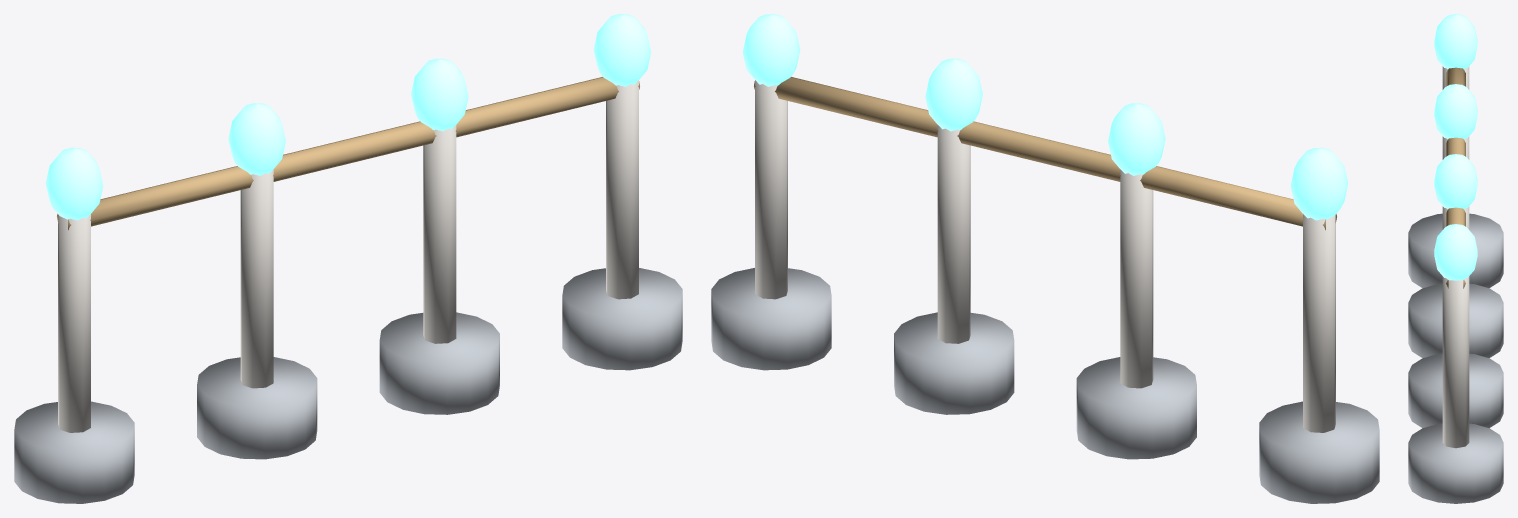
Rendered from arc_garden_balustrade.glb.
3 views of the same model, side by side, from view 1: azimuth 30°, elevation 25°; view 2: azimuth 150°, elevation 25°; view 3: azimuth 270°, elevation 25° (orthographic). The views are drawn at different scales.
Parts seen in each view (by area): view 1: ARC_garden_balustrade_gold_rail, ARC_garden_balustrade_foot_2, ARC_garden_balustrade_foot_1, ARC_garden_balustrade_foot_0, ARC_garden_balustrade_foot_3, ARC_garden_balustrade_baluster_2, ARC_garden_balustrade_baluster_1, ARC_garden_balustrade_baluster_0, ARC_garden_balustrade_baluster_3, ARC_garden_balustrade_pearl_finial_0, ARC_garden_balustrade_pearl_finial_1, ARC_garden_balustrade_pearl_finial_3 (+1 smaller); view 2: ARC_garden_balustrade_gold_rail, ARC_garden_balustrade_foot_2, ARC_garden_balustrade_foot_1, ARC_garden_balustrade_foot_0, ARC_garden_balustrade_foot_3, ARC_garden_balustrade_baluster_2, ARC_garden_balustrade_baluster_1, ARC_garden_balustrade_baluster_0, ARC_garden_balustrade_baluster_3, ARC_garden_balustrade_pearl_finial_0, ARC_garden_balustrade_pearl_finial_1, ARC_garden_balustrade_pearl_finial_3 (+1 smaller); view 3: ARC_garden_balustrade_foot_3, ARC_garden_balustrade_baluster_3, ARC_garden_balustrade_foot_2, ARC_garden_balustrade_foot_1, ARC_garden_balustrade_foot_0, ARC_garden_balustrade_pearl_finial_3, ARC_garden_balustrade_pearl_finial_0, ARC_garden_balustrade_pearl_finial_2, ARC_garden_balustrade_pearl_finial_1, ARC_garden_balustrade_gold_rail, ARC_garden_balustrade_baluster_0, ARC_garden_balustrade_baluster_1 (+1 smaller).
Boxes of the visible parts, x1,y1,x2,y2 form: ARC_garden_balustrade_gold_rail: (57, 77, 639, 230); ARC_garden_balustrade_foot_2: (379, 312, 499, 414); ARC_garden_balustrade_foot_1: (197, 357, 317, 459); ARC_garden_balustrade_foot_0: (14, 401, 134, 503); ARC_garden_balustrade_foot_3: (562, 268, 682, 370); ARC_garden_balustrade_baluster_2: (423, 125, 456, 343); ARC_garden_balustrade_baluster_1: (240, 169, 273, 388); ARC_garden_balustrade_baluster_0: (58, 214, 90, 432); ARC_garden_balustrade_baluster_3: (606, 80, 638, 299); ARC_garden_balustrade_pearl_finial_0: (45, 147, 103, 220); ARC_garden_balustrade_pearl_finial_1: (228, 103, 285, 175); ARC_garden_balustrade_pearl_finial_3: (593, 14, 651, 86); ARC_garden_balustrade_gold_rail: (754, 77, 1336, 230); ARC_garden_balustrade_foot_2: (894, 312, 1014, 414); ARC_garden_balustrade_foot_1: (1076, 357, 1196, 459); ARC_garden_balustrade_foot_0: (1259, 401, 1379, 503); ARC_garden_balustrade_foot_3: (711, 268, 831, 370); ARC_garden_balustrade_baluster_2: (937, 125, 970, 343); ARC_garden_balustrade_baluster_1: (1120, 169, 1153, 388); ARC_garden_balustrade_baluster_0: (1303, 214, 1335, 432); ARC_garden_balustrade_baluster_3: (755, 80, 787, 299); ARC_garden_balustrade_pearl_finial_0: (1290, 147, 1348, 220); ARC_garden_balustrade_pearl_finial_1: (1108, 103, 1165, 175); ARC_garden_balustrade_pearl_finial_3: (742, 14, 800, 86); ARC_garden_balustrade_foot_3: (1408, 423, 1503, 503); ARC_garden_balustrade_baluster_3: (1442, 276, 1469, 448); ARC_garden_balustrade_foot_2: (1408, 353, 1503, 428); ARC_garden_balustrade_foot_1: (1408, 283, 1503, 358); ARC_garden_balustrade_foot_0: (1408, 213, 1503, 288); ARC_garden_balustrade_pearl_finial_3: (1434, 224, 1477, 280); ARC_garden_balustrade_pearl_finial_0: (1434, 14, 1477, 69); ARC_garden_balustrade_pearl_finial_2: (1434, 154, 1477, 209); ARC_garden_balustrade_pearl_finial_1: (1434, 84, 1477, 139); ARC_garden_balustrade_gold_rail: (1446, 67, 1465, 288); ARC_garden_balustrade_baluster_0: (1442, 66, 1469, 89); ARC_garden_balustrade_baluster_1: (1442, 136, 1469, 159).
Bounding box in the file's own units: 2.86 × 1.38 × 0.46.
